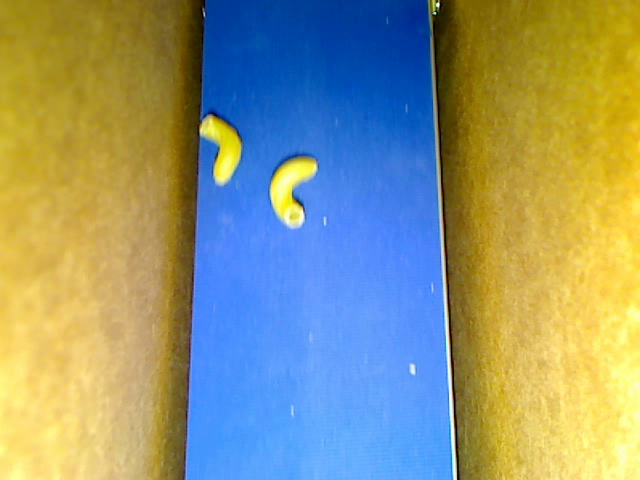elbow: (269, 156, 317, 228), (198, 114, 242, 185)
